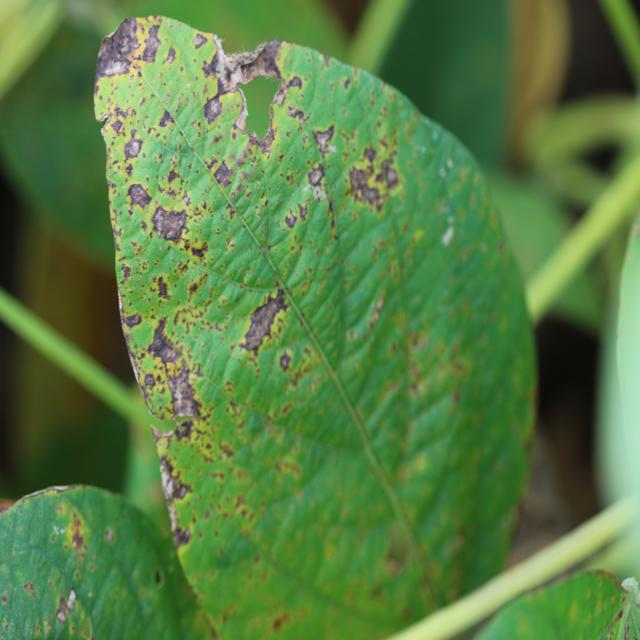Bacterial_Blight: (173, 397, 239, 466), (147, 317, 183, 366), (584, 141, 620, 176), (250, 115, 279, 158), (141, 23, 163, 64), (364, 289, 385, 331), (384, 535, 406, 571), (126, 182, 152, 211), (312, 123, 336, 154), (278, 343, 299, 378), (100, 55, 130, 78), (202, 94, 223, 125), (212, 159, 234, 188), (308, 164, 327, 192), (201, 613, 220, 639), (287, 102, 307, 125), (55, 593, 69, 624), (360, 184, 380, 205), (174, 420, 193, 442), (173, 525, 191, 547), (71, 525, 85, 552), (173, 385, 186, 414), (79, 616, 94, 640), (215, 55, 228, 82), (123, 311, 142, 329), (156, 276, 170, 300), (109, 117, 125, 138), (166, 164, 182, 185), (272, 612, 289, 631), (325, 196, 336, 225), (158, 107, 173, 128), (190, 243, 208, 260), (192, 32, 208, 50), (284, 209, 298, 229), (230, 66, 244, 86), (363, 145, 377, 164), (385, 167, 398, 187), (441, 226, 454, 246), (143, 373, 157, 390), (120, 263, 132, 282), (154, 569, 164, 588), (53, 525, 67, 537), (177, 484, 188, 499), (189, 280, 199, 296), (614, 607, 624, 623), (22, 580, 34, 593), (42, 618, 51, 635), (105, 528, 115, 543), (452, 390, 461, 405), (182, 191, 191, 206), (124, 162, 133, 176), (343, 76, 351, 90), (2, 618, 10, 632), (100, 123, 107, 137), (432, 129, 439, 141), (1, 594, 9, 604), (439, 166, 446, 177), (420, 145, 426, 154), (88, 590, 93, 598), (186, 82, 190, 89)
Soybean: (94, 16, 536, 638)
